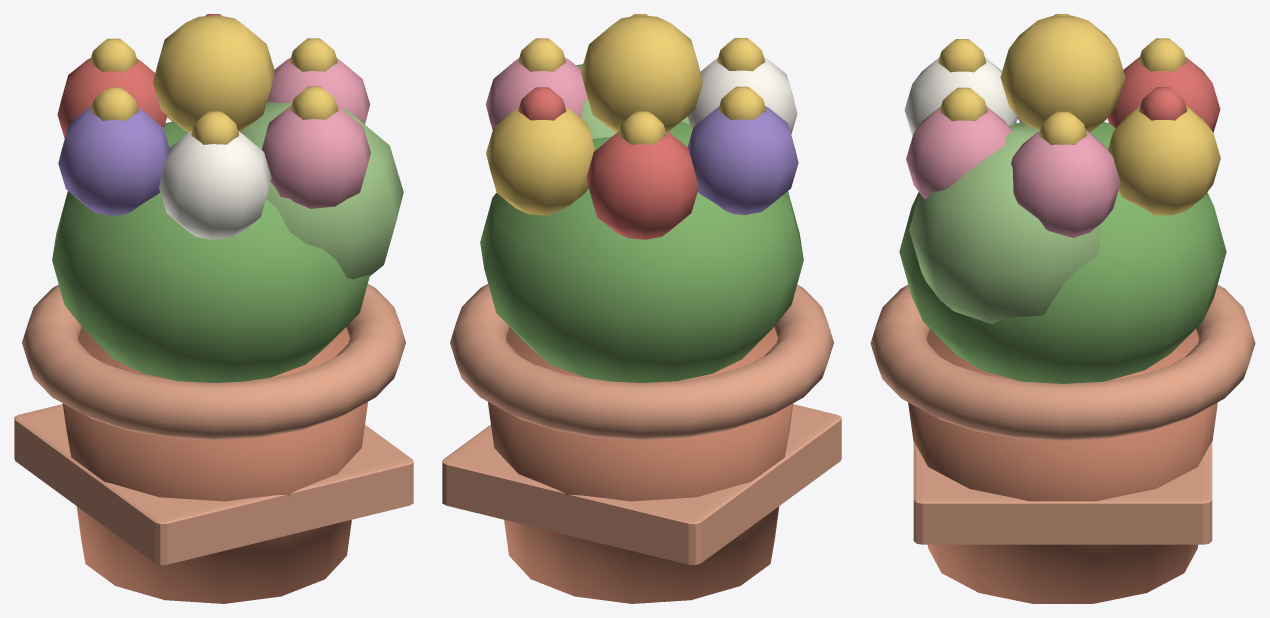
File: flower_pot.glb
3 views of the same model, side by side, from view 1: azimuth 30°, elevation 25°; view 2: azimuth 150°, elevation 25°; view 3: azimuth 270°, elevation 25° (orthographic).
Parts seen in each view (by area): view 1: flower_pot; view 2: flower_pot; view 3: flower_pot.
Part boxes in pixels (x1,y1,x2,y2): flower_pot: (14, 14, 413, 603); flower_pot: (442, 14, 841, 603); flower_pot: (870, 14, 1255, 603).
Size of the model in its own units: 0.8 by 1.21 by 0.8.
